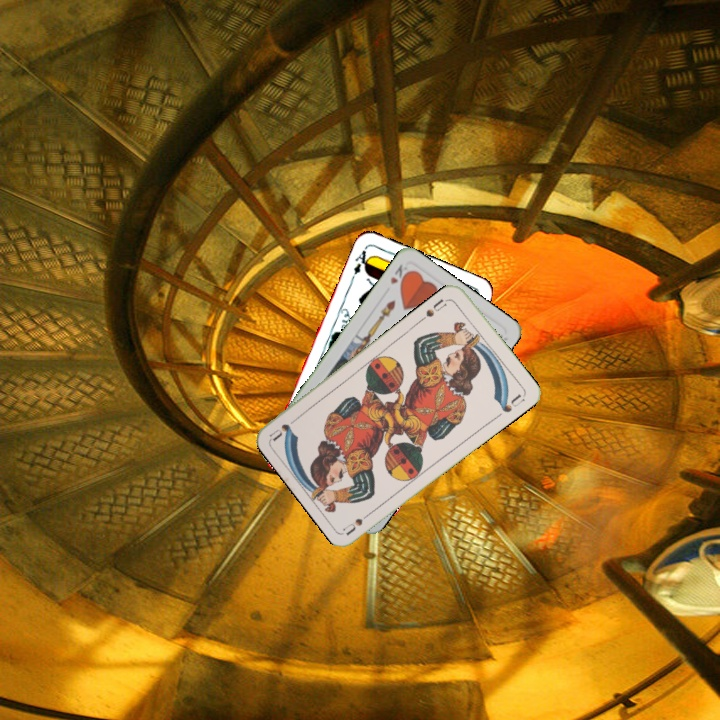EA: (349, 244, 373, 277)
HK: (386, 260, 414, 288)
SU: (340, 506, 377, 537), (422, 294, 449, 320)
